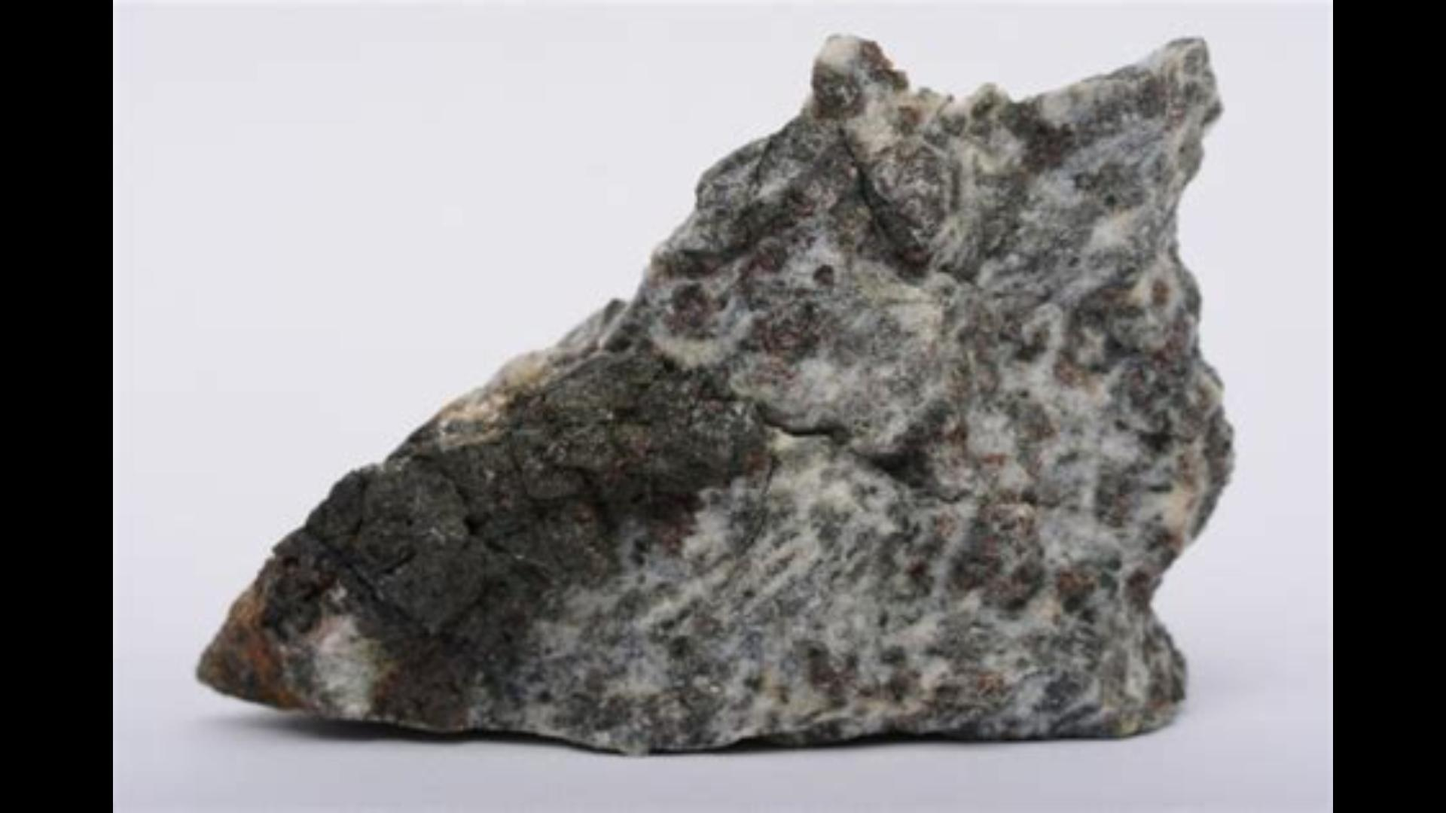rock: (200, 41, 1230, 749)
